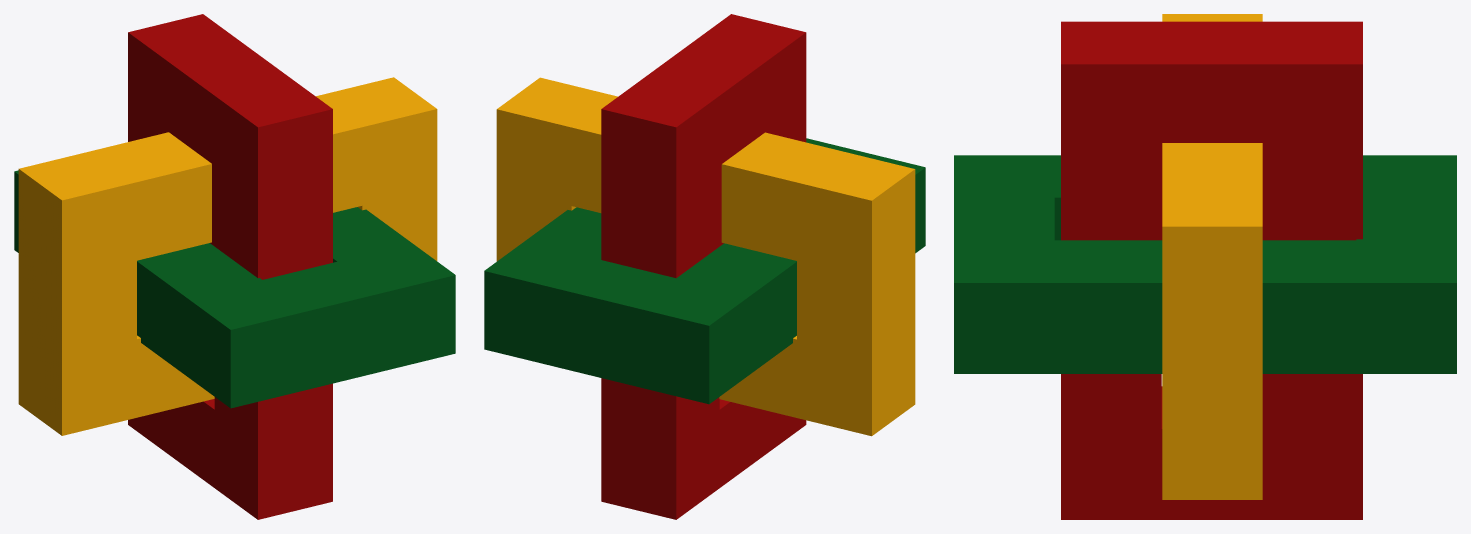
The model's file is lock.glb.
3 views of the same model, side by side, from view 1: azimuth 30°, elevation 25°; view 2: azimuth 150°, elevation 25°; view 3: azimuth 270°, elevation 25° (orthographic). The views are drawn at different scales.
Parts seen in each view (by area): view 1: C:Mesh, G:Mesh, O:Mesh; view 2: C:Mesh, G:Mesh, O:Mesh; view 3: G:Mesh, O:Mesh, C:Mesh.
Boxes of the visible parts, box(x1,y1,x2,y2) form: C:Mesh: box(18, 77, 437, 435); G:Mesh: box(128, 14, 332, 519); O:Mesh: box(14, 170, 455, 408); C:Mesh: box(496, 77, 915, 436); G:Mesh: box(601, 14, 806, 519); O:Mesh: box(484, 138, 925, 404); G:Mesh: box(1061, 21, 1362, 519); O:Mesh: box(954, 155, 1456, 373); C:Mesh: box(1162, 14, 1262, 499).
Bounding box in the file's own units: 2.29 × 2.29 × 2.29.
